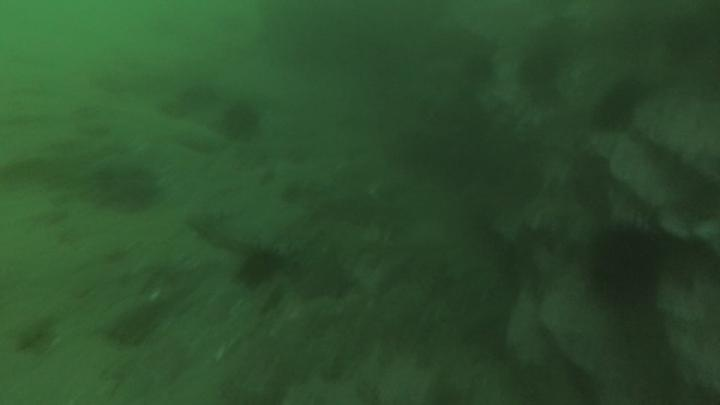echinus: (587, 226, 664, 308), (92, 159, 161, 213), (567, 151, 615, 212), (592, 78, 644, 133), (236, 246, 285, 289), (517, 48, 562, 91), (219, 100, 263, 142), (459, 51, 497, 87)
starfish: (295, 249, 355, 303)
